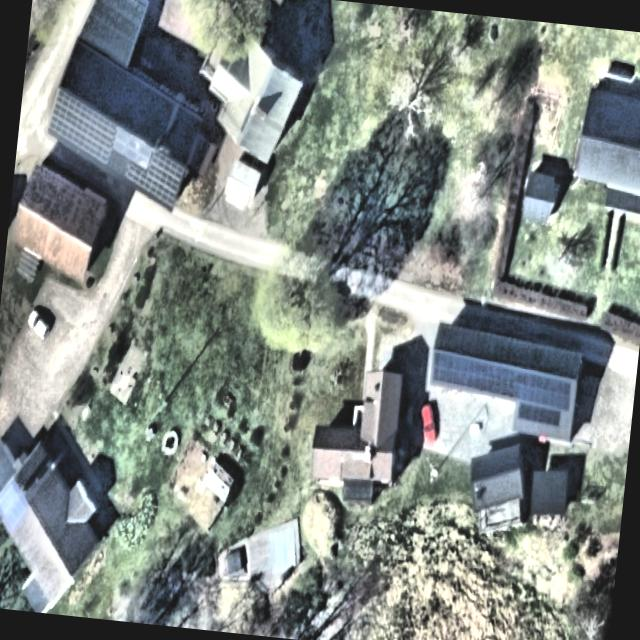roof_pv: (428, 349, 495, 397), (74, 104, 118, 168), (144, 148, 186, 210), (47, 87, 83, 153), (492, 363, 544, 406), (514, 400, 564, 429), (539, 375, 573, 412), (121, 162, 148, 189)
